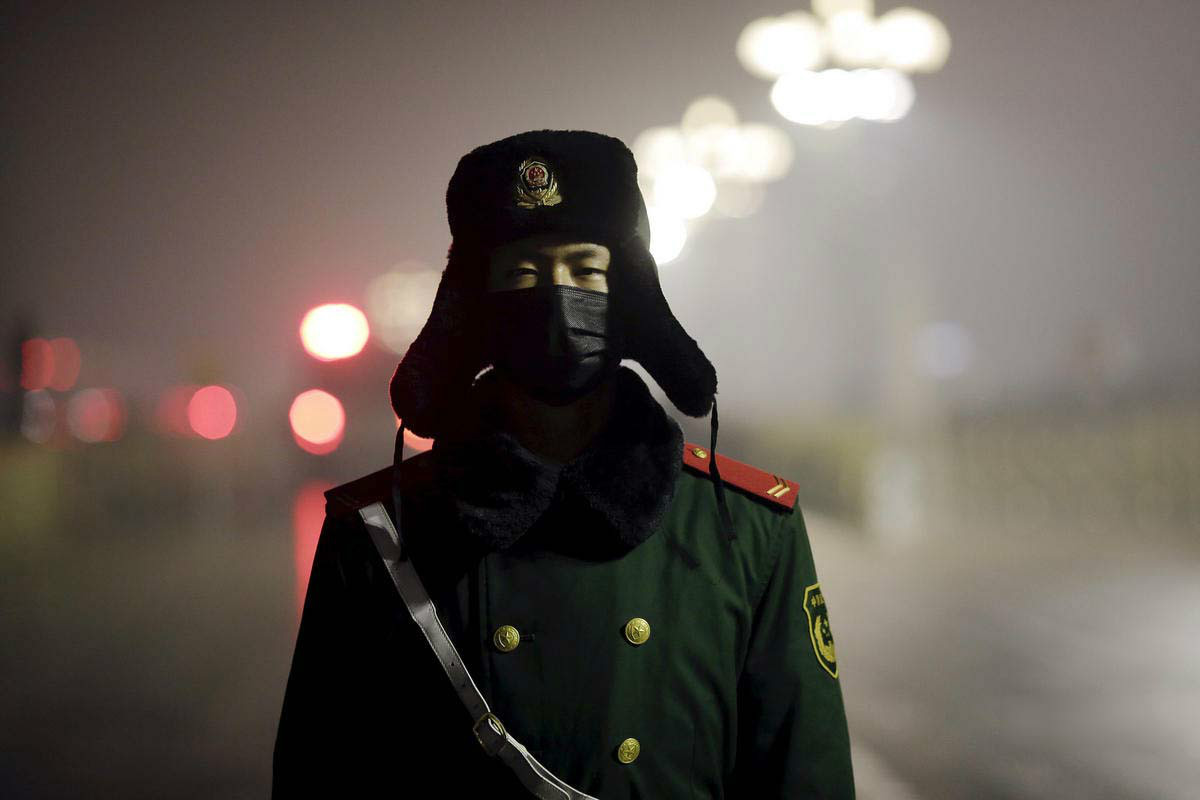face_mask: (478, 240, 610, 404)
